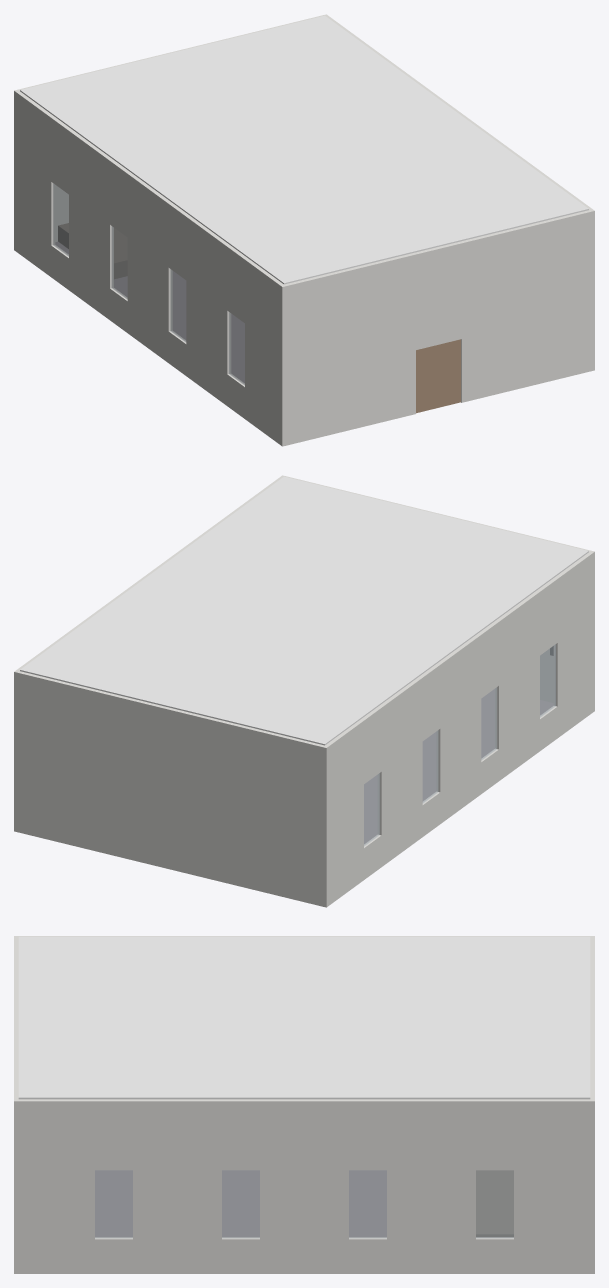
Rendered from sanctuary-panels.glb.
3 views of the same model, one above another, from view 1: azimuth 30°, elevation 25°; view 2: azimuth 150°, elevation 25°; view 3: azimuth 270°, elevation 25° (orthographic). The views are drawn at different scales.
Visible parts, largest first — view 1: Ceiling, Wall 1 (rear), Wall 4 (left), Doors (rear), Floor, Wall 3 (front), Window (left 2), Window (left 3), Window (left 1), Window (left 4), Stage, Wall 2 (right); view 2: Ceiling, Wall 3 (front), Wall 4 (left), Floor, Wall 1 (rear), Window (left 3), Window (left 1), Window (left 4), Window (left 2), Wall 2 (right); view 3: Ceiling, Wall 2 (right), Floor, Window (right 1), Window (right 2), Window (right 3), Window (right 4), Stage, Wall 1 (rear), Wall 3 (front), Wall 4 (left).
Boxes of the visible parts, x1,y1,x2,y2 form: Ceiling: [20, 15, 588, 284]; Wall 1 (rear): [280, 209, 594, 446]; Wall 4 (left): [16, 91, 283, 444]; Doors (rear): [416, 339, 460, 413]; Floor: [55, 242, 244, 382]; Wall 3 (front): [14, 14, 328, 251]; Window (left 2): [170, 269, 186, 342]; Window (left 3): [111, 226, 127, 299]; Window (left 1): [229, 312, 244, 385]; Window (left 4): [53, 183, 68, 256]; Stage: [58, 223, 127, 278]; Wall 2 (right): [326, 16, 592, 209]; Ceiling: [20, 476, 588, 745]; Wall 3 (front): [14, 670, 328, 907]; Wall 4 (left): [325, 552, 592, 905]; Floor: [364, 689, 553, 843]; Wall 1 (rear): [280, 475, 594, 712]; Window (left 3): [422, 730, 438, 803]; Window (left 1): [540, 644, 555, 717]; Window (left 4): [364, 773, 379, 846]; Window (left 2): [481, 687, 496, 760]; Wall 2 (right): [16, 477, 282, 670]; Ceiling: [18, 936, 590, 1099]; Wall 2 (right): [18, 1099, 590, 1273]; Floor: [95, 1170, 386, 1236]; Window (right 1): [95, 1170, 132, 1238]; Window (right 2): [222, 1170, 259, 1238]; Window (right 3): [349, 1170, 386, 1238]; Window (right 4): [476, 1170, 513, 1238]; Stage: [476, 1170, 513, 1236]; Wall 1 (rear): [14, 936, 18, 1273]; Wall 3 (front): [590, 936, 594, 1273]; Wall 4 (left): [18, 936, 590, 936].
Bounding box in the file's own units: 12.5 × 6.2 × 18.59.
